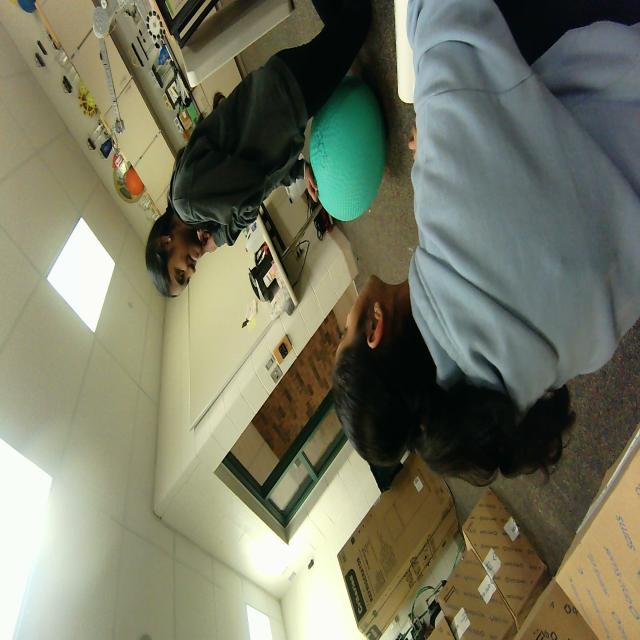algae: (308, 76, 386, 221)
